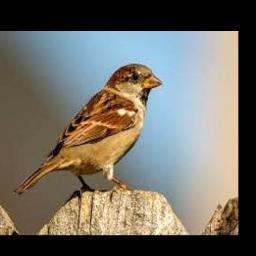Sparrow: (14, 64, 163, 195)
